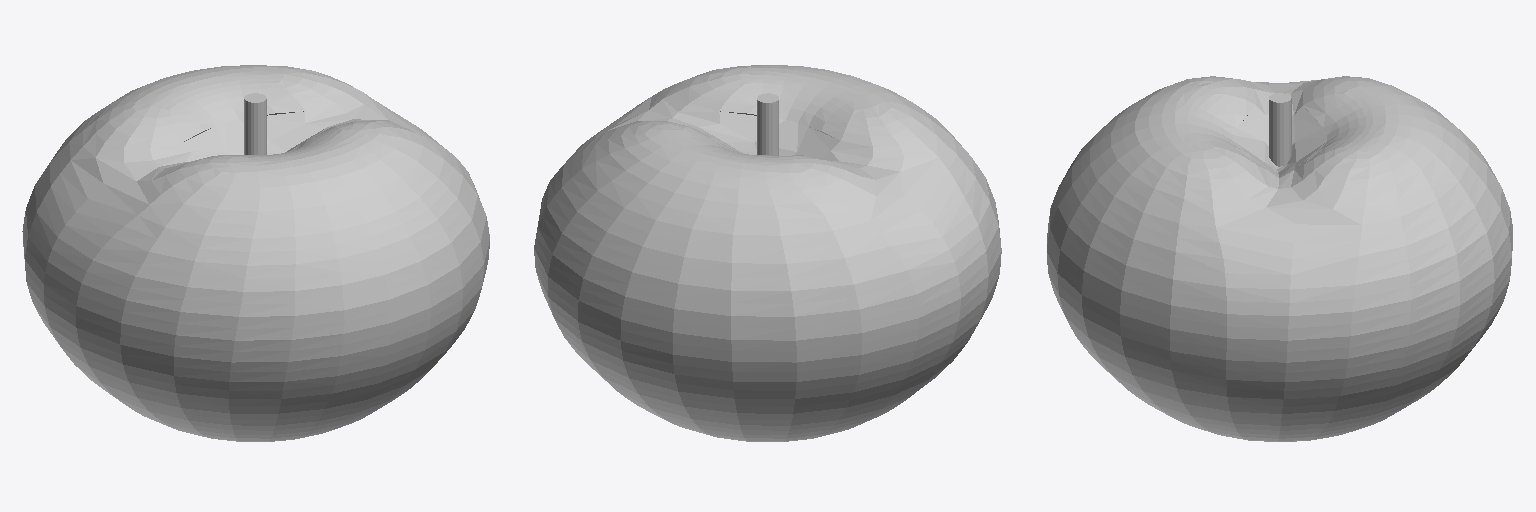
File: Apple.obj
3 renders of one model, left to right at view 1: azimuth 30°, elevation 25°; view 2: azimuth 150°, elevation 25°; view 3: azimuth 270°, elevation 25°, orthographic.
Parts seen in each view (by area): view 1: pCylinder1, pCylinder2; view 2: pCylinder1, pCylinder2; view 3: pCylinder1, pCylinder2.
Boxes of the visible parts, box(x1,y1,x2,y2) form: pCylinder1: box(22, 65, 489, 441); pCylinder2: box(244, 93, 266, 154); pCylinder1: box(534, 65, 1001, 441); pCylinder2: box(757, 93, 778, 155); pCylinder1: box(1047, 76, 1512, 441); pCylinder2: box(1269, 93, 1291, 166).
Size of the model in its own units: 51.65 by 38.44 by 51.52.